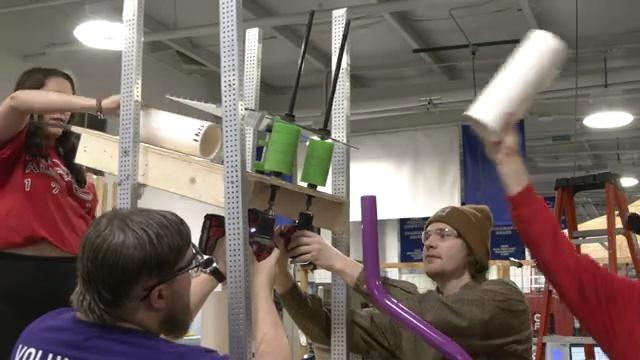CORAL: (461, 26, 569, 142), (139, 107, 222, 159)
